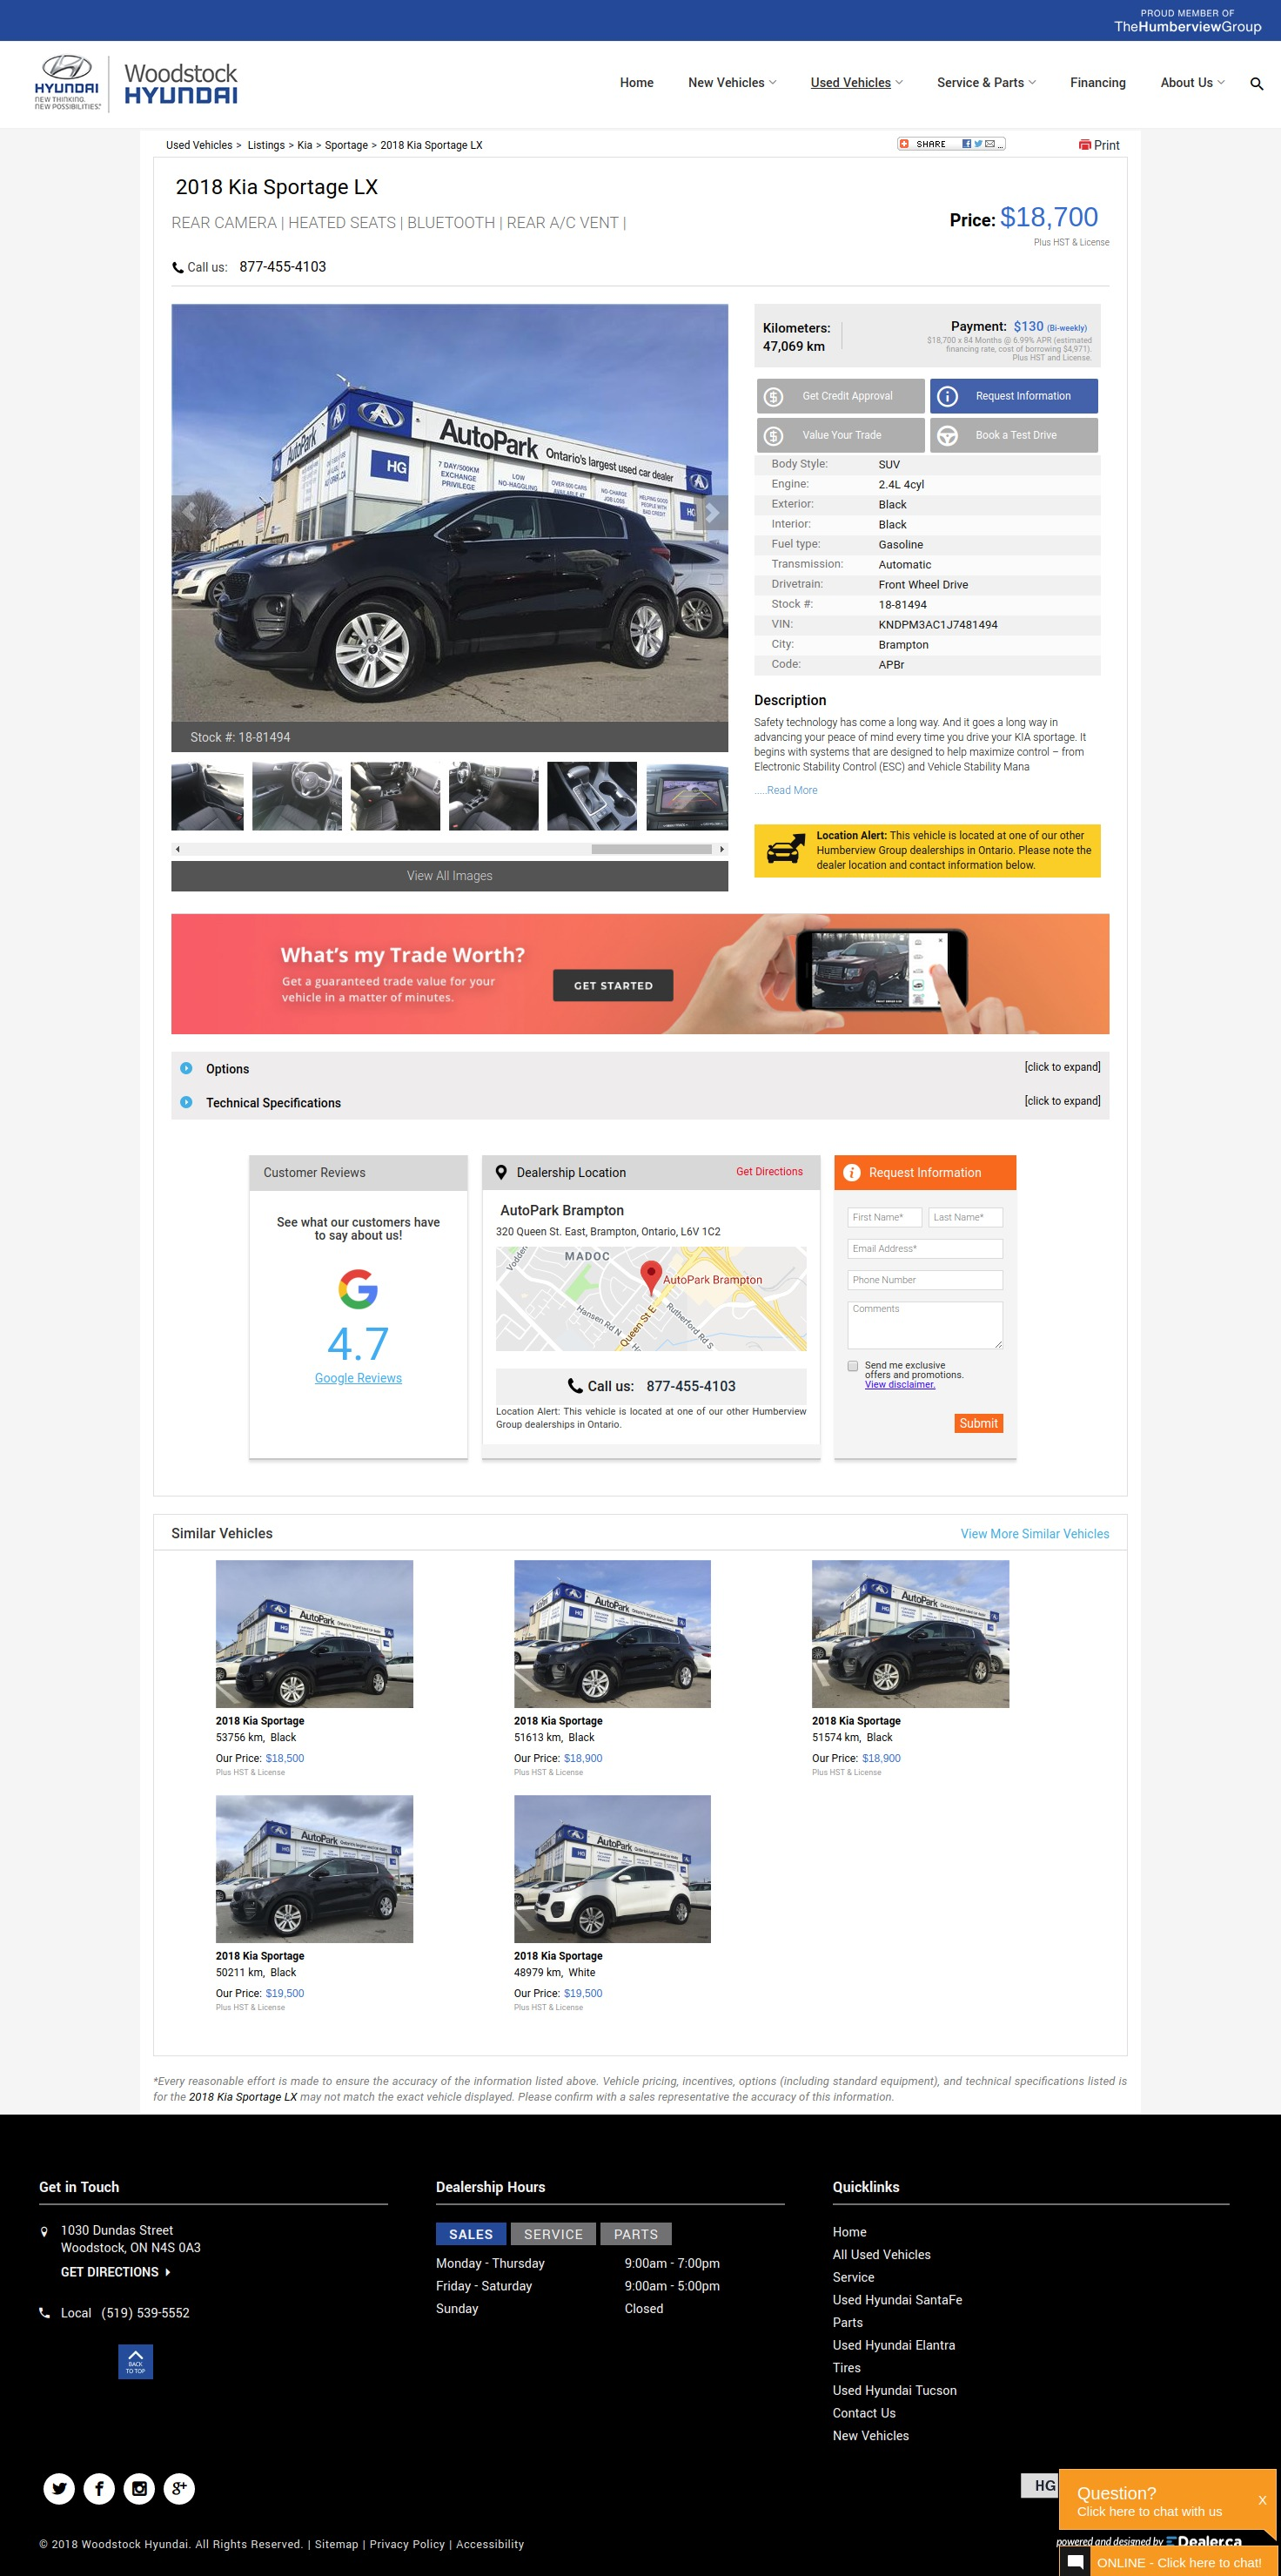car: (721, 846, 724, 853)
